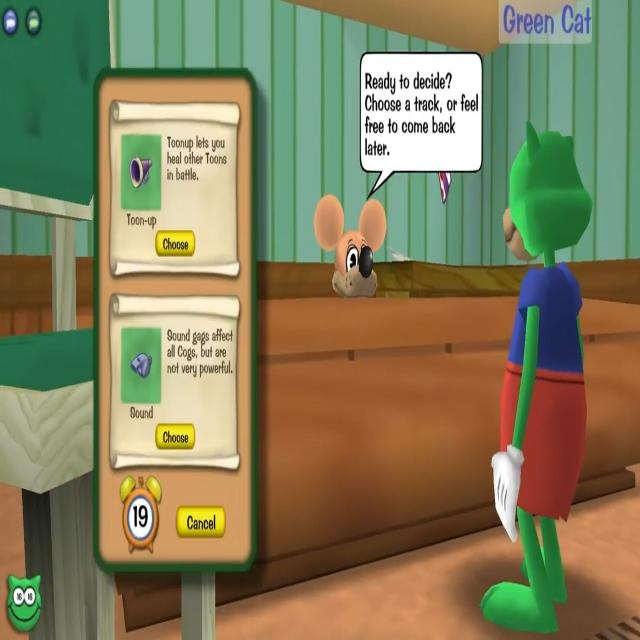npc: (317, 198, 387, 301)
